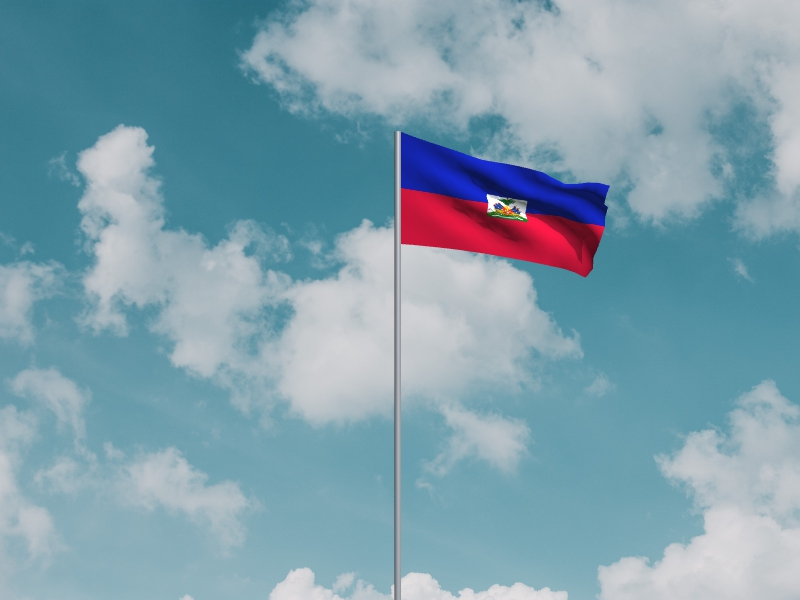ht: (402, 133, 612, 280)
